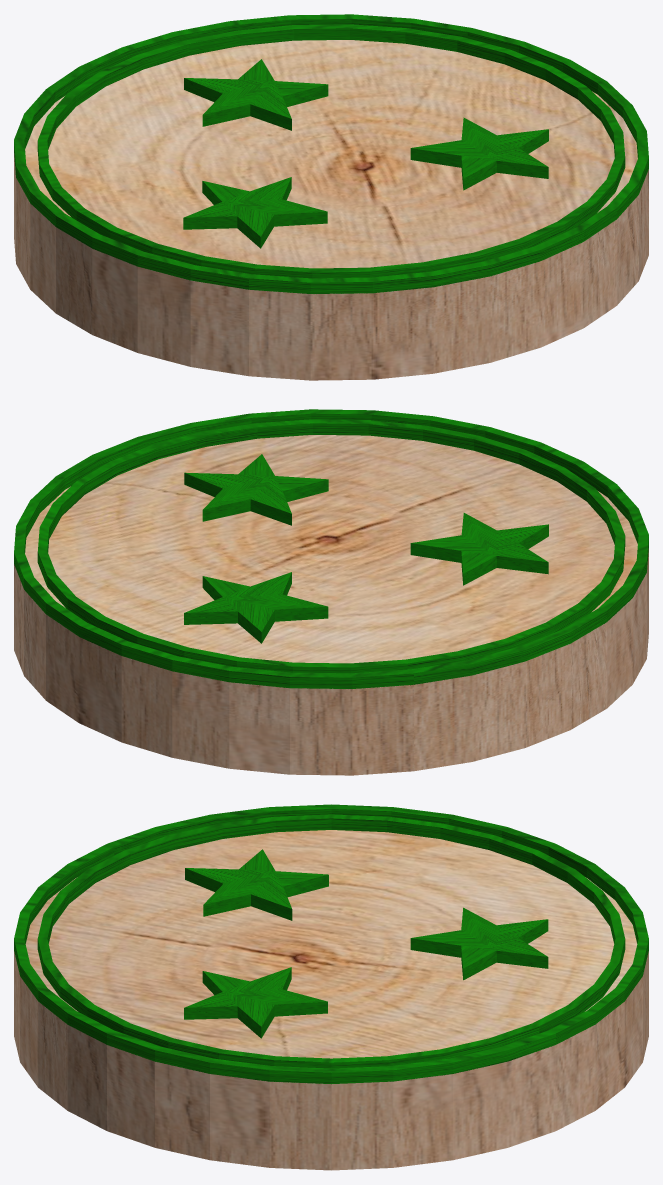
File: Sternestein3.fbx
The picture shows the model from 3 angles, top to bottom: view 1: azimuth 30°, elevation 25°; view 2: azimuth 150°, elevation 25°; view 3: azimuth 270°, elevation 25°; orthographic projection.
Parts seen in each view (by area): view 1: Stern3; view 2: Stern3; view 3: Stern3.
Part boxes in pixels (bbox=[...]): Stern3: bbox=[14, 14, 648, 380]; Stern3: bbox=[14, 409, 648, 775]; Stern3: bbox=[14, 804, 648, 1170].
Bounding box in the file's own units: 200 × 34.17 × 200.
